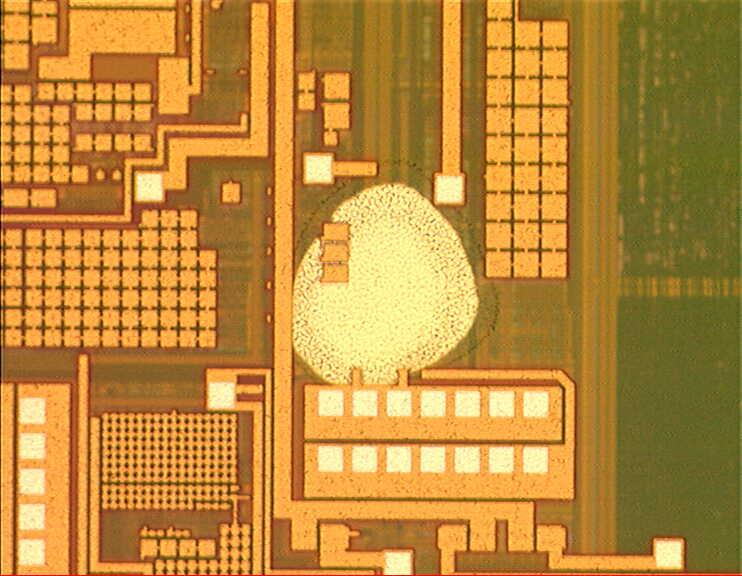BLOCK ETCH: (276, 157, 502, 387)
